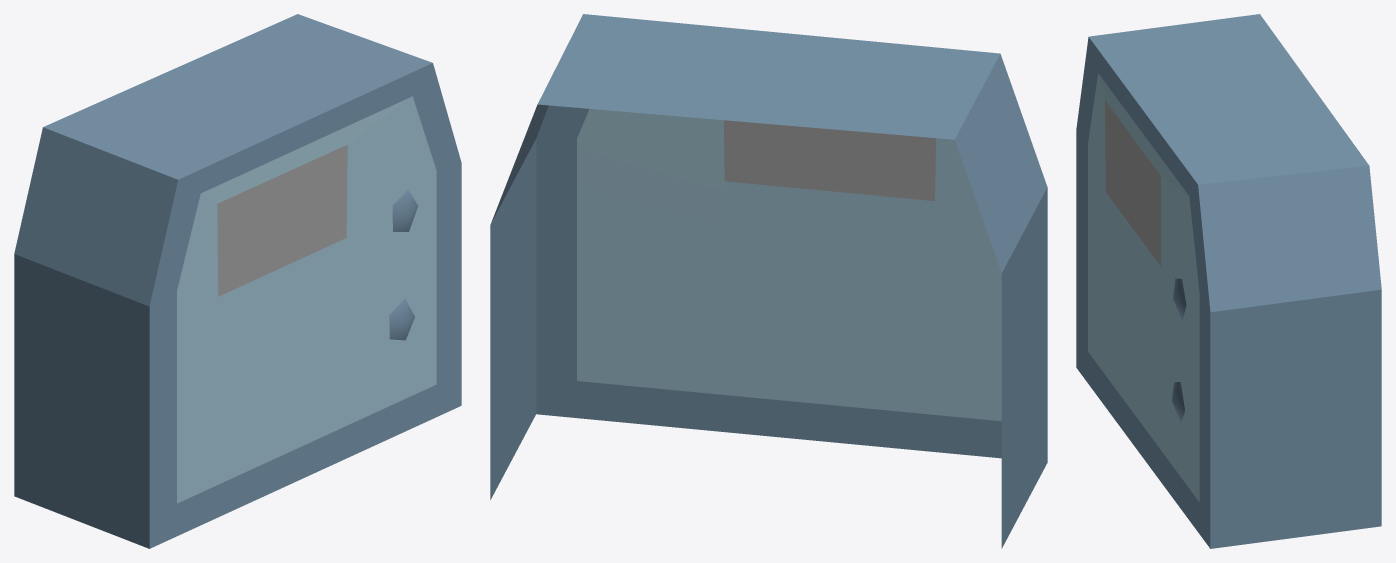
Rendered from MSH_QuestObject_box_02.fbx.
3 renders of one model, left to right at view 1: azimuth 30°, elevation 25°; view 2: azimuth 150°, elevation 25°; view 3: azimuth 270°, elevation 25°, orthographic. The views are drawn at different scales.
Visible parts, largest first — view 1: MSH_QuestObject_box_02; view 2: MSH_QuestObject_box_02; view 3: MSH_QuestObject_box_02.
Part boxes in pixels (bbox=[...]): MSH_QuestObject_box_02: bbox=[14, 14, 461, 548]; MSH_QuestObject_box_02: bbox=[490, 14, 1047, 548]; MSH_QuestObject_box_02: bbox=[1076, 14, 1381, 548].
Bounding box in the file's own units: 0.7926 × 0.6292 × 0.5014.
